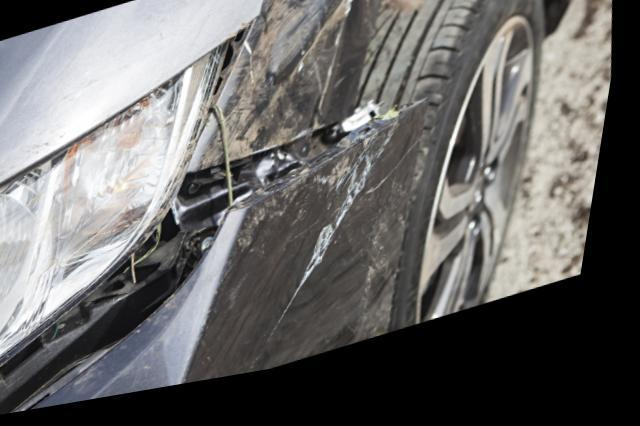dislocated part: (0, 118, 435, 419)
scratch: (276, 137, 409, 358)
